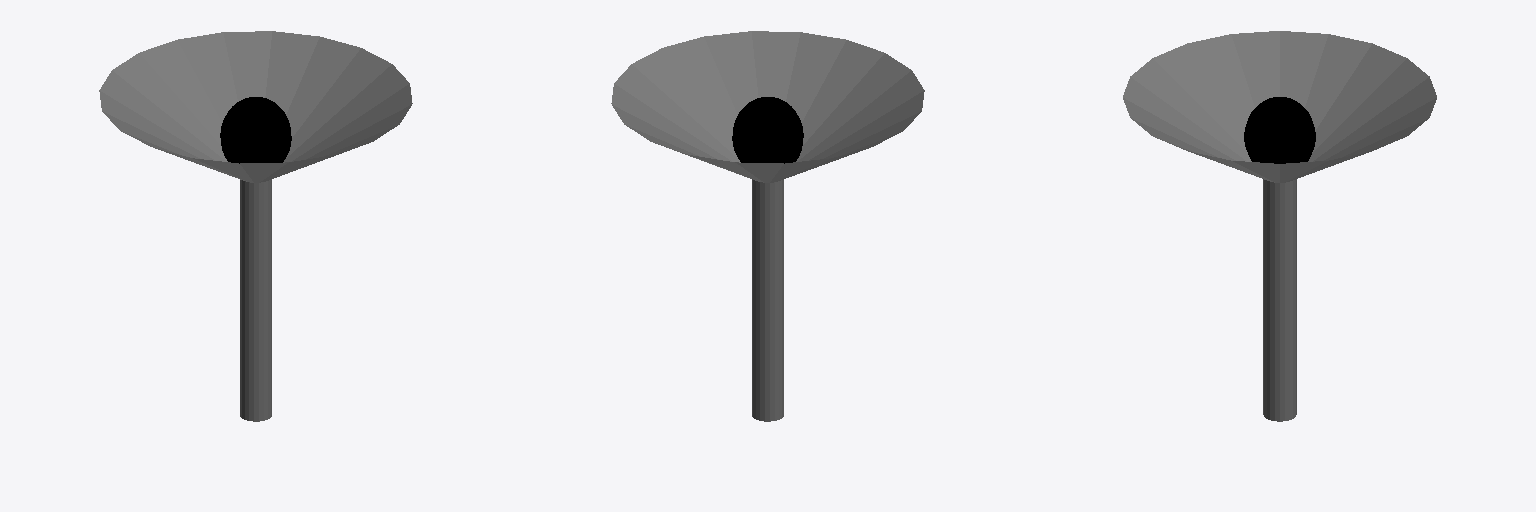
The model's file is Lampara.obj.
The picture shows the model from 3 angles: view 1: azimuth 30°, elevation 25°; view 2: azimuth 150°, elevation 25°; view 3: azimuth 270°, elevation 25°; orthographic projection.
Parts seen in each view (by area): view 1: pasted__pCylinder8; view 2: pasted__pCylinder8; view 3: pasted__pCylinder8.
Part boxes in pixels (x1,y1,x2,y2): pasted__pCylinder8: (99, 31, 412, 421); pasted__pCylinder8: (611, 31, 924, 421); pasted__pCylinder8: (1123, 31, 1436, 421).
Size of the model in its own units: 0.5435 by 0.6042 by 0.5435.